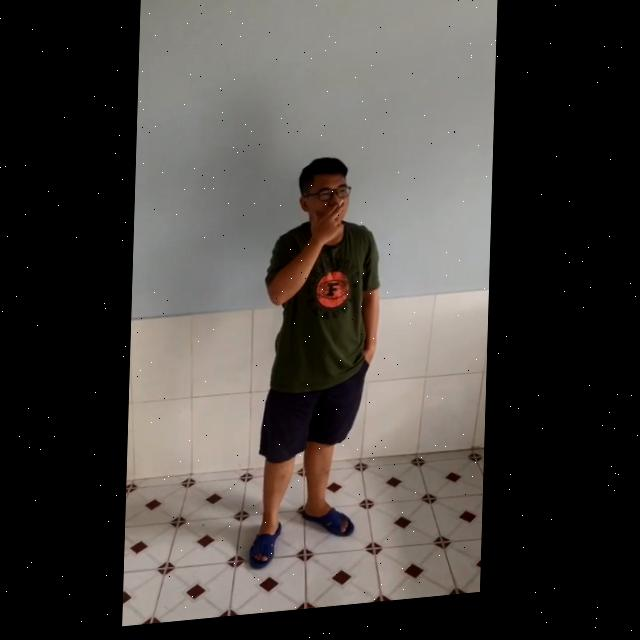cigarette: (338, 205, 347, 214)
